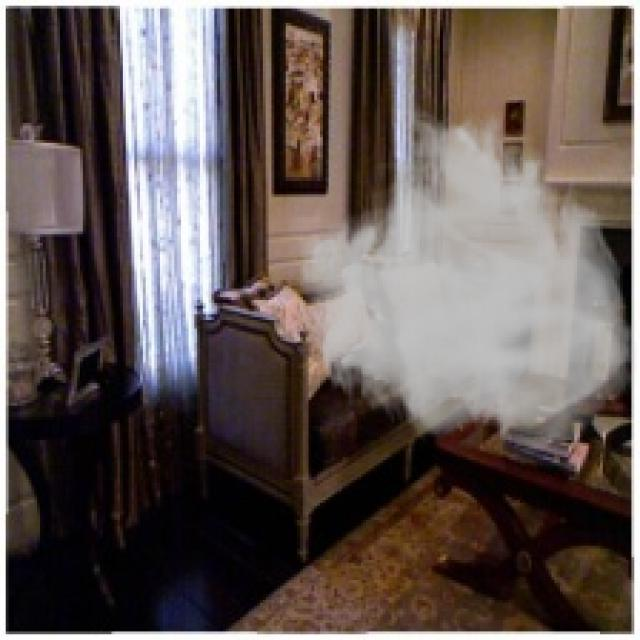smoke: (294, 100, 637, 457)
